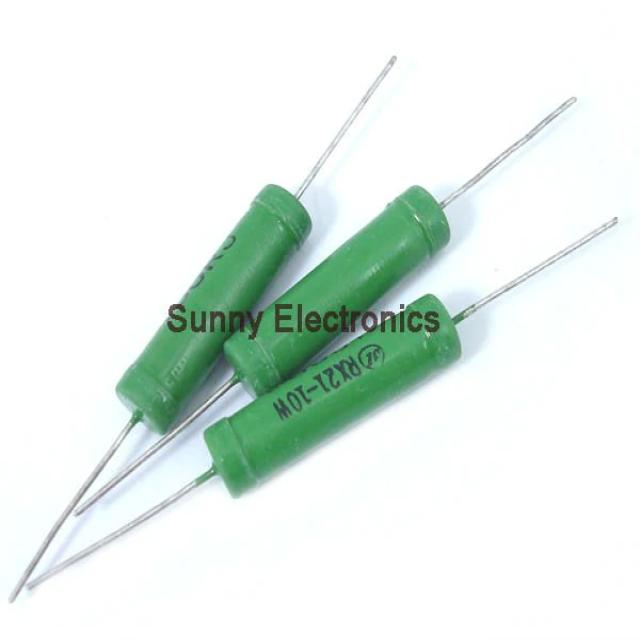Resistor: (212, 300, 459, 492), (227, 188, 446, 394), (121, 191, 306, 428)
